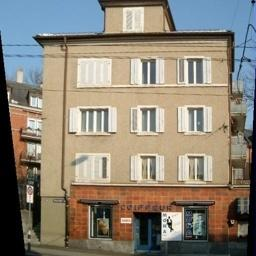building: (40, 0, 233, 243)
